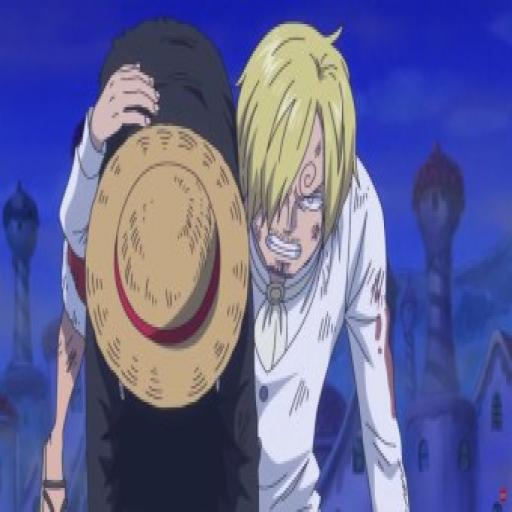sanji: (233, 18, 368, 280)
